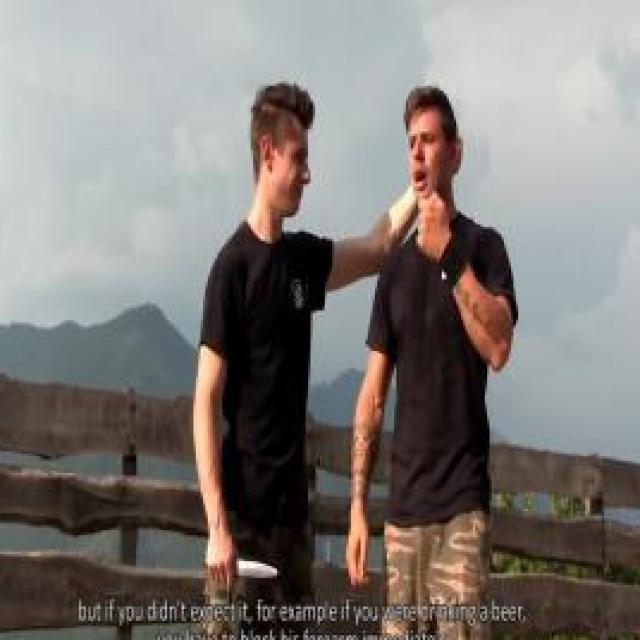knife: (200, 540, 286, 596)
